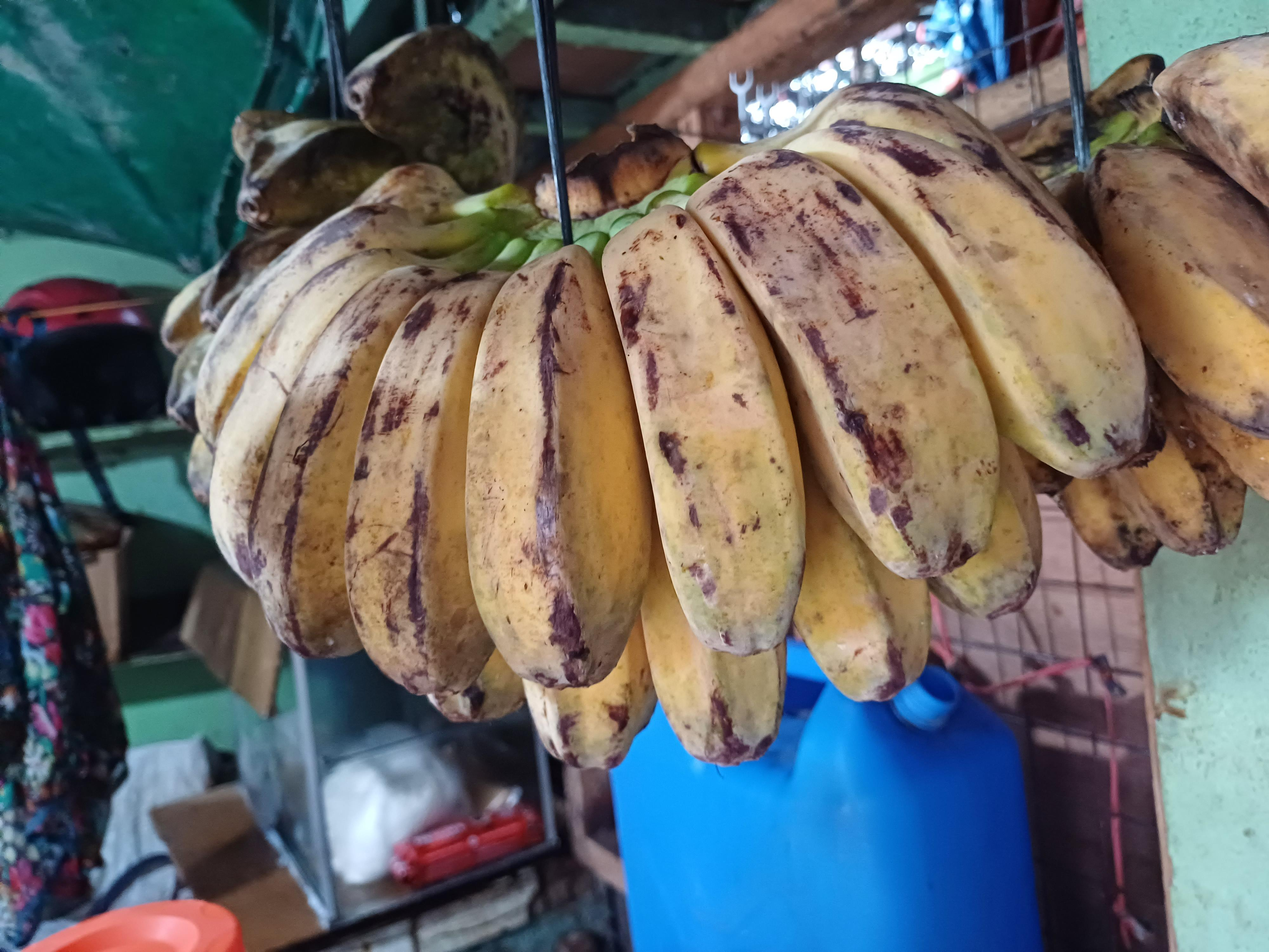ripe: (195, 86, 1152, 772), (1029, 28, 1269, 573)
